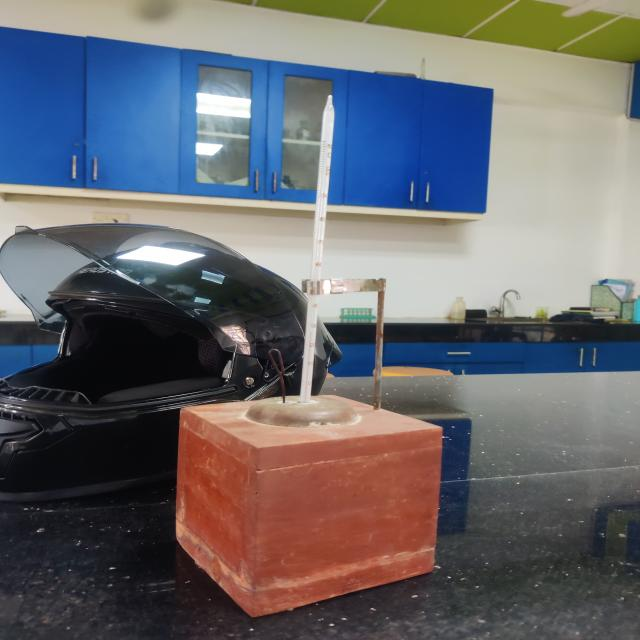Calorimeter: (127, 76, 500, 640)
